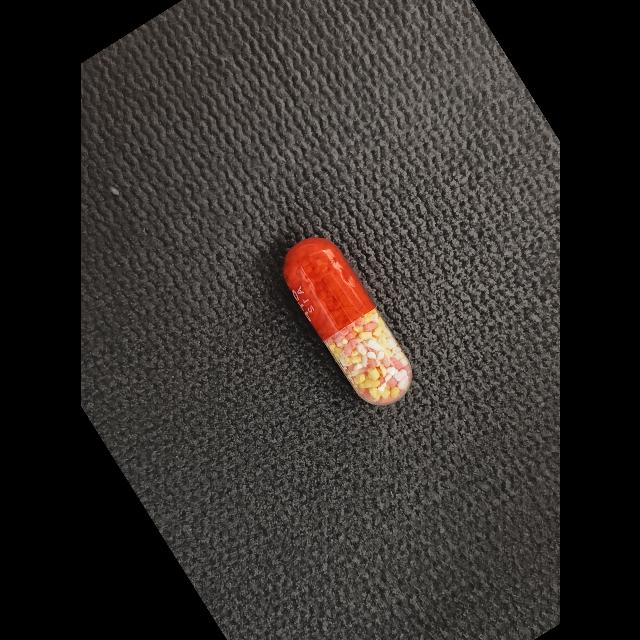Intact Capsule: (282, 238, 412, 405)
